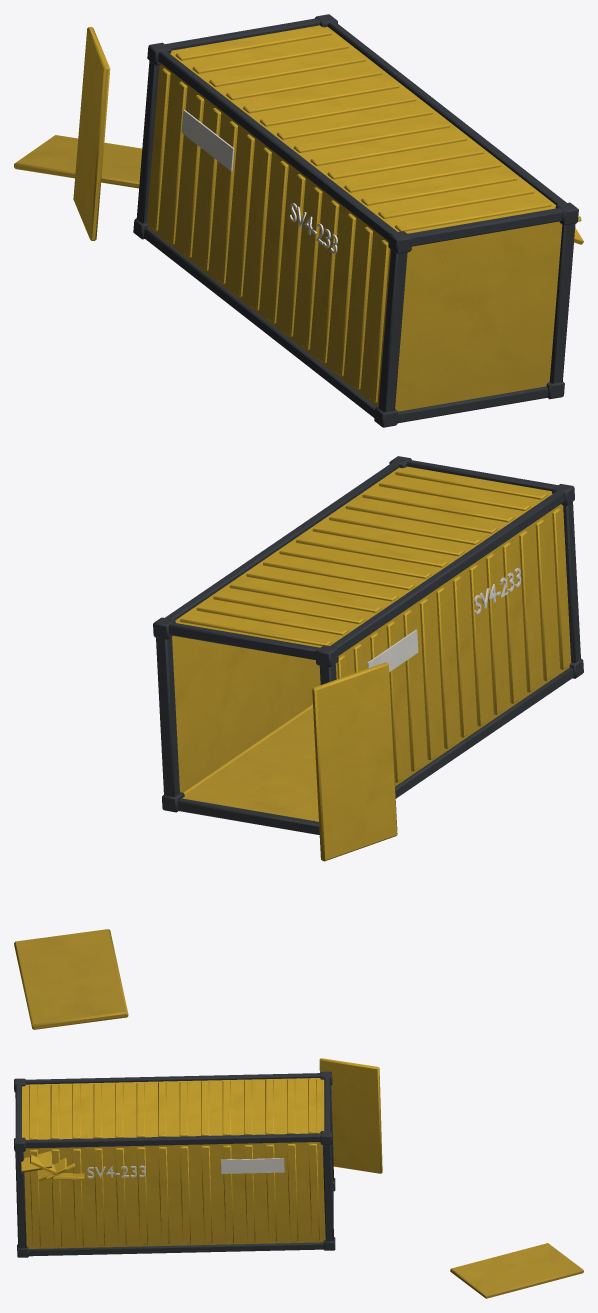
Rendered from sv04_container_yellow.glb.
The picture shows the model from 3 angles, top to bottom: view 1: azimuth 30°, elevation 25°; view 2: azimuth 150°, elevation 25°; view 3: azimuth 270°, elevation 25°; orthographic projection. The views are drawn at different scales.
Visible parts, largest first — view 1: sv04_container_yellow; view 2: sv04_container_yellow; view 3: sv04_container_yellow.
Part boxes in pixels (box(x1,y1,x2,y2)): sv04_container_yellow: box(14, 14, 583, 427); sv04_container_yellow: box(14, 456, 583, 1029); sv04_container_yellow: box(14, 1058, 583, 1298).
Size of what is drawn, in the model's own units: 3.68 by 3.55 by 10.82.
8 materials, 8 textured.
